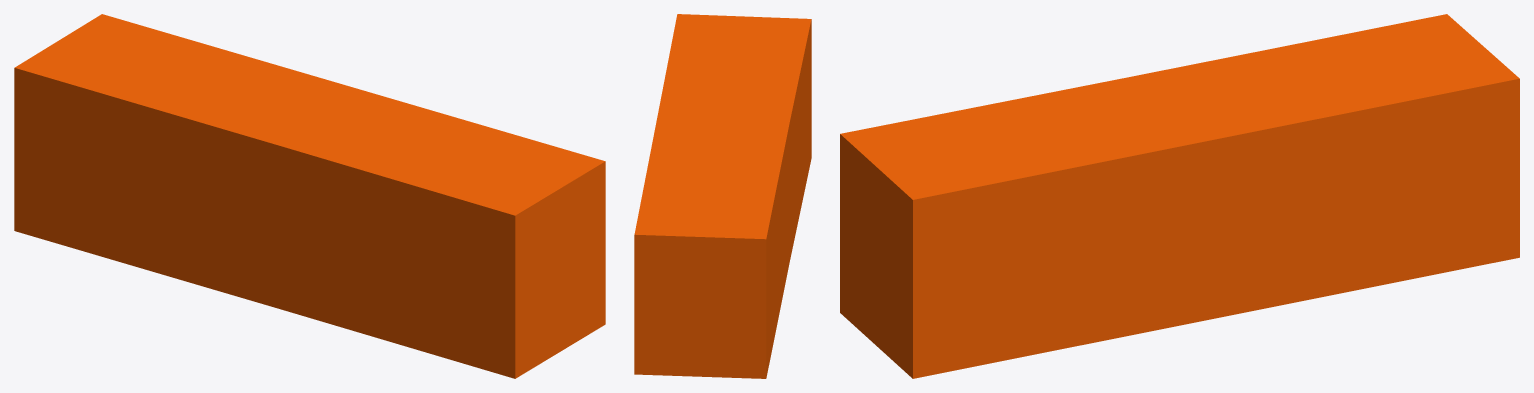
The model's file is DEHB01ALk00017Vv.dae.
3 views of the same model, side by side, from view 1: azimuth 30°, elevation 25°; view 2: azimuth 150°, elevation 25°; view 3: azimuth 270°, elevation 25° (orthographic). The views are drawn at different scales.
Size of the model in its own units: 6.97 by 10.77 by 3.13.
